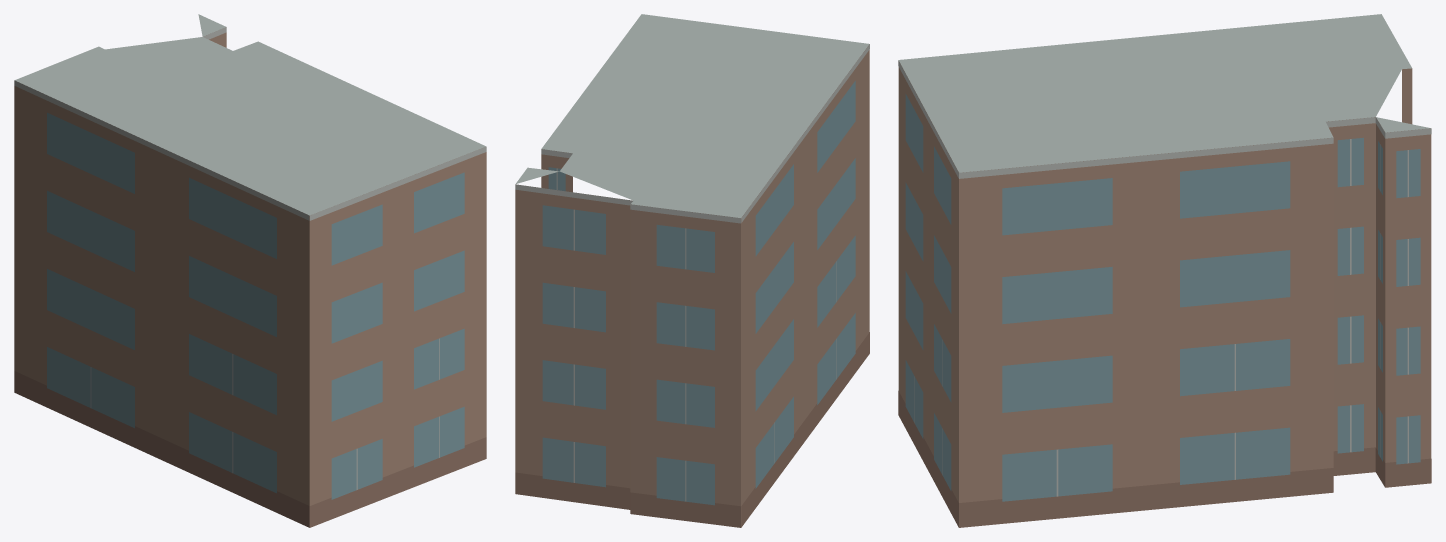
The model's file is survey-upis-32907795.glb.
3 views of the same model, side by side, from view 1: azimuth 30°, elevation 25°; view 2: azimuth 150°, elevation 25°; view 3: azimuth 270°, elevation 25° (orthographic). The views are drawn at different scales.
Visible parts, largest first — view 1: survey-upis-32907795.tmp; view 2: survey-upis-32907795.tmp; view 3: survey-upis-32907795.tmp.
Part boxes in pixels (<box>): survey-upis-32907795.tmp: <box>14,14,486,527</box>; survey-upis-32907795.tmp: <box>515,14,869,527</box>; survey-upis-32907795.tmp: <box>898,14,1431,527</box>.
Size of the model in its own units: 13.53 by 14.1 by 19.19.
